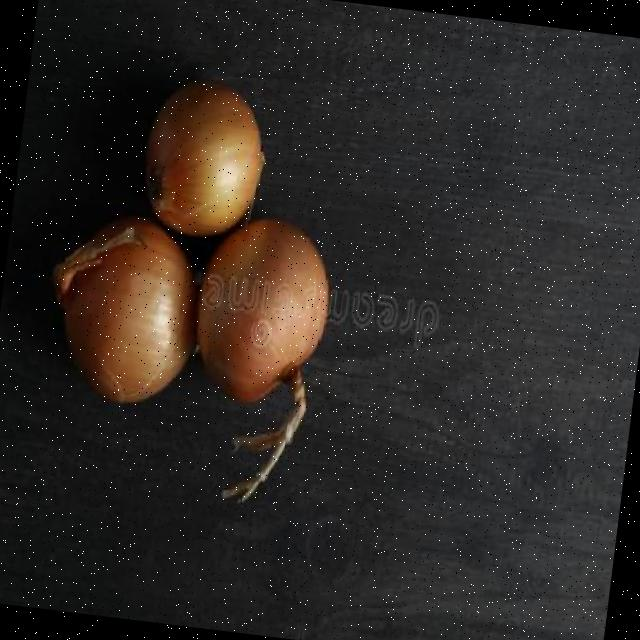Onion: (51, 215, 194, 402), (195, 217, 327, 401), (143, 79, 263, 234)
